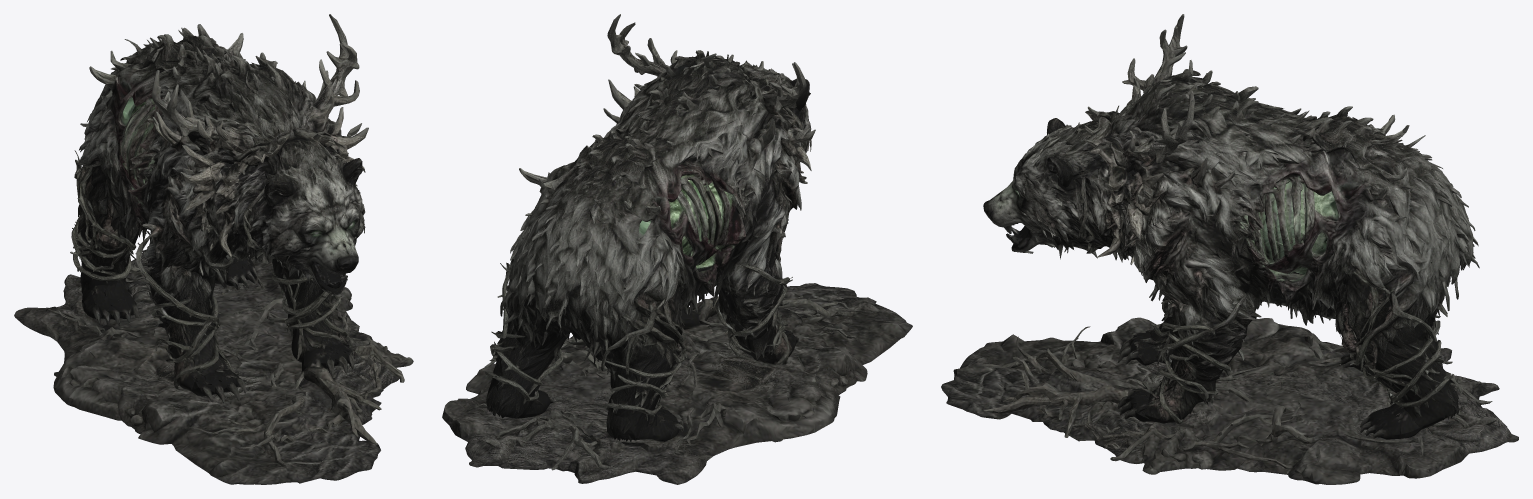
Rendered from bear2_meshy_raw.glb.
The picture shows the model from 3 angles, left to right: view 1: azimuth 30°, elevation 25°; view 2: azimuth 150°, elevation 25°; view 3: azimuth 270°, elevation 25°; orthographic projection. The views are drawn at different scales.
Visible parts, largest first — view 1: Mesh_0; view 2: Mesh_0; view 3: Mesh_0.
Part boxes in pixels (x1,y1,x2,y2): Mesh_0: (14, 14, 413, 484); Mesh_0: (442, 14, 912, 484); Mesh_0: (941, 14, 1518, 484).
Bounding box in the file's own units: 1.25 × 1.28 × 1.89.
1 material, 1 textured.
